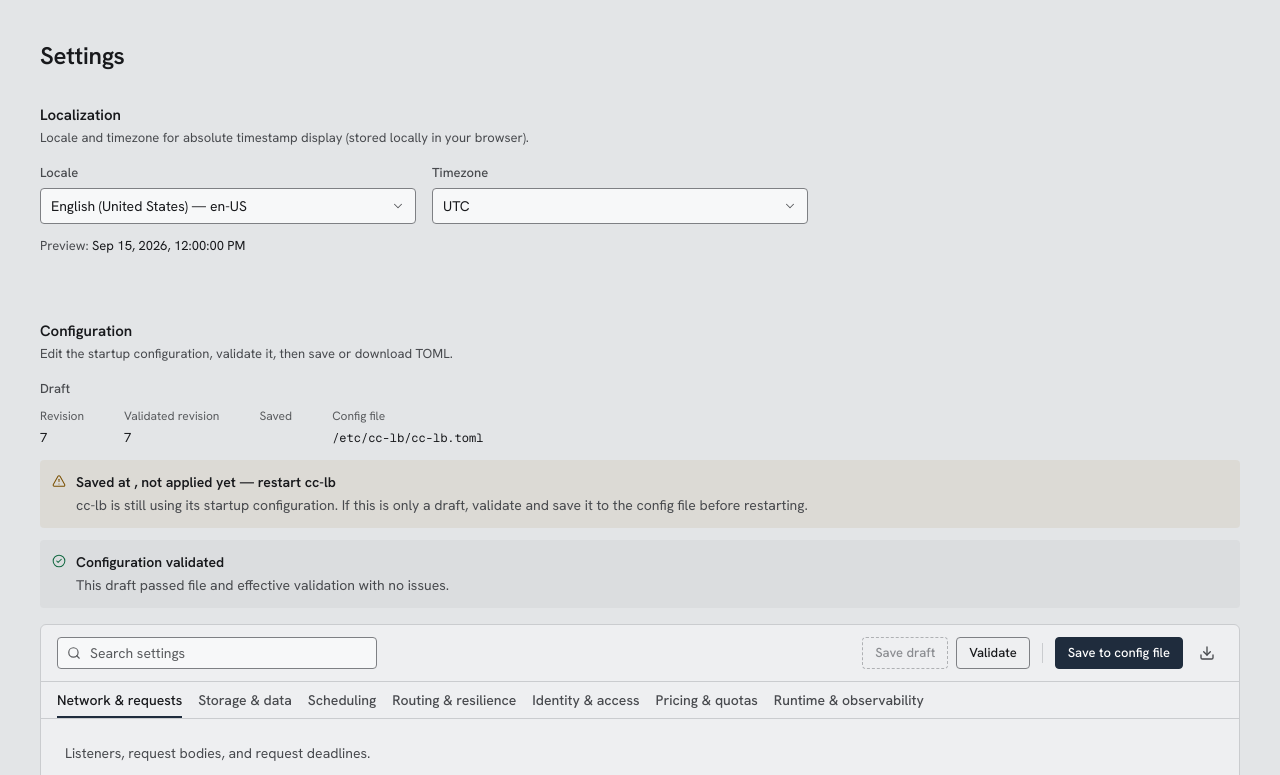
it: numeric fields surface schema bounds as a hint in the details
This screenshot has width=1280, height=775.
Click the button "Storage & data": [245, 700] box [198,682,292,718]
(page scrolled)
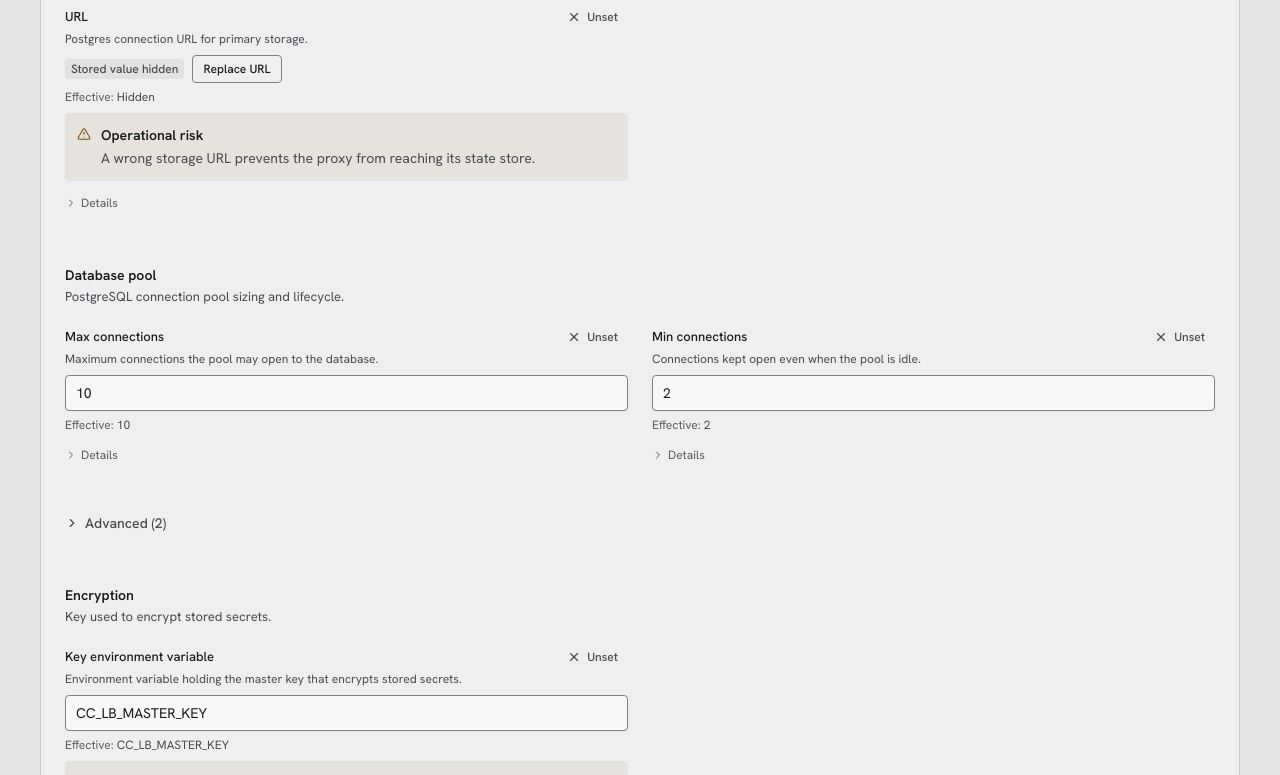
Check: the element that starts with "Max connections" is shown, box [65,323,628,477]
